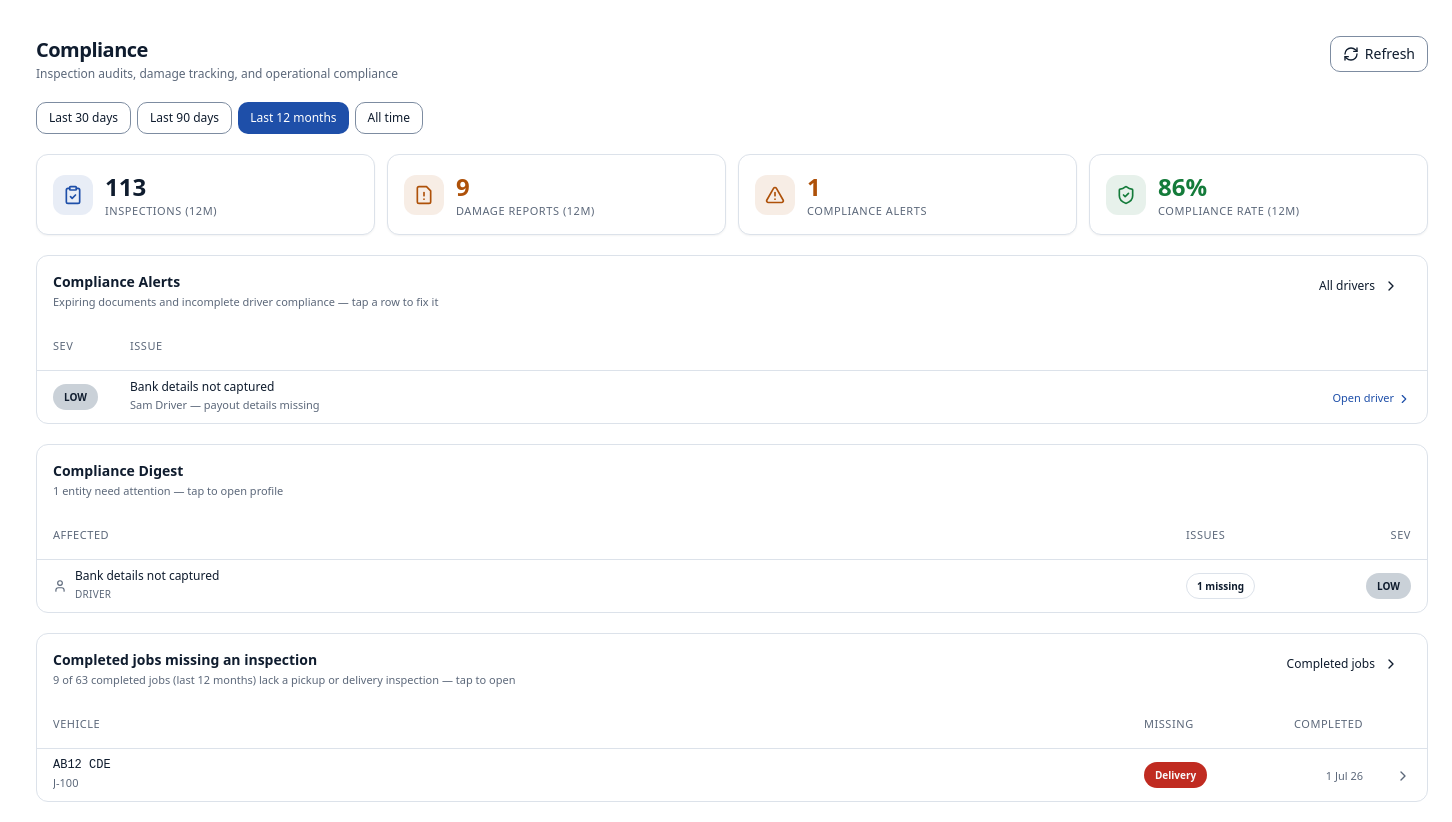
ControlCompliance page › compliance alert rows open the profile that needs fixing
Click the 1st text "Bank details not captured" at point(202, 387), box [130,378,274,395]
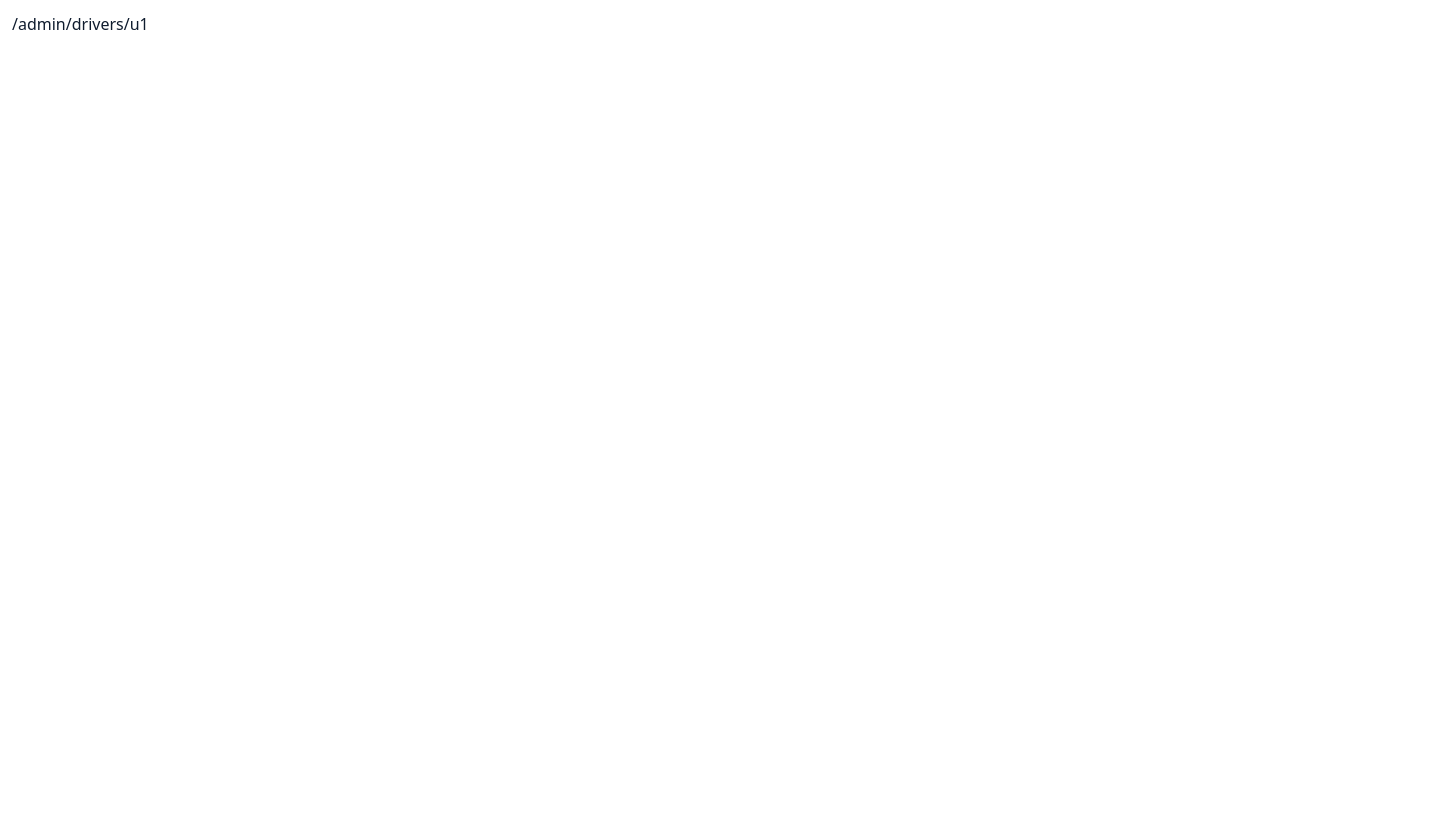
Result: the text with test id "location" reads "/admin/drivers/u1" at [12,13,149,35]
